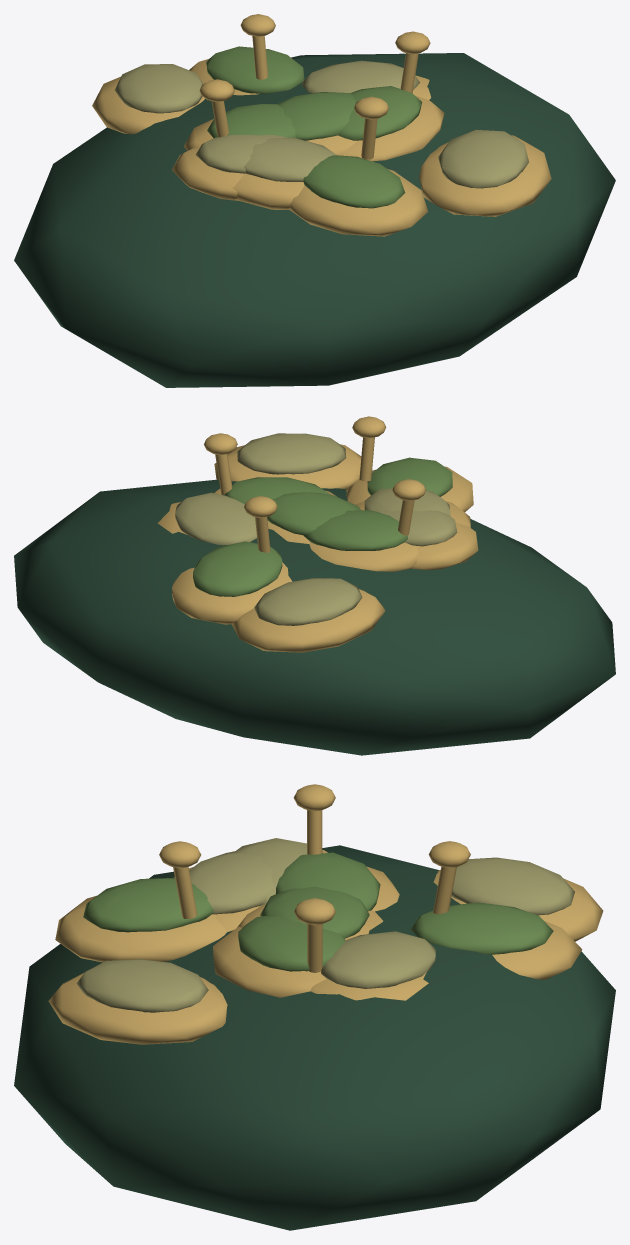
Rendered from discovery-lichen.glb.
3 views of the same model, one above another, from view 1: azimuth 30°, elevation 25°; view 2: azimuth 150°, elevation 25°; view 3: azimuth 270°, elevation 25° (orthographic). The views are drawn at different scales.
Visible parts, largest first — view 1: discovery-lichen-visual; view 2: discovery-lichen-visual; view 3: discovery-lichen-visual.
Boxes of the visible parts, x1,y1,x2,y2 form: discovery-lichen-visual: [14, 14, 615, 387]; discovery-lichen-visual: [14, 416, 615, 755]; discovery-lichen-visual: [14, 784, 615, 1230].
Bounding box in the file's own units: 0.803 × 0.3614 × 0.6252.
